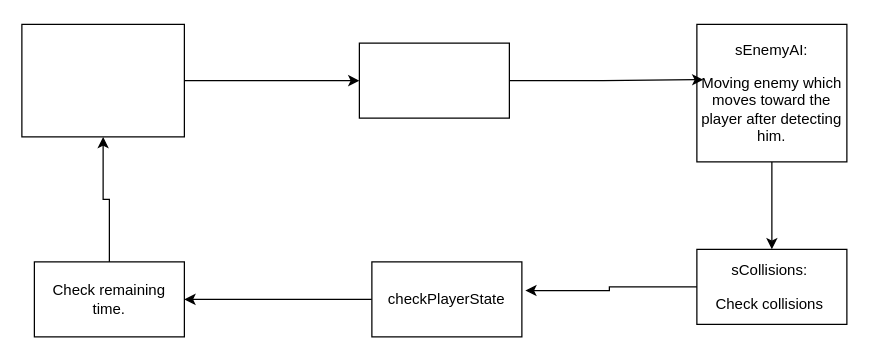
Some shapes in this 869 by 359 pixel diagram are drawn without their labels. Here are the shapes that lost their labels. From the top down, the centre of each, then its label:
[102,80]: Managing Entities: Remove dead entities, add entities.
[433,80]: sMovement: Moving all entities.
